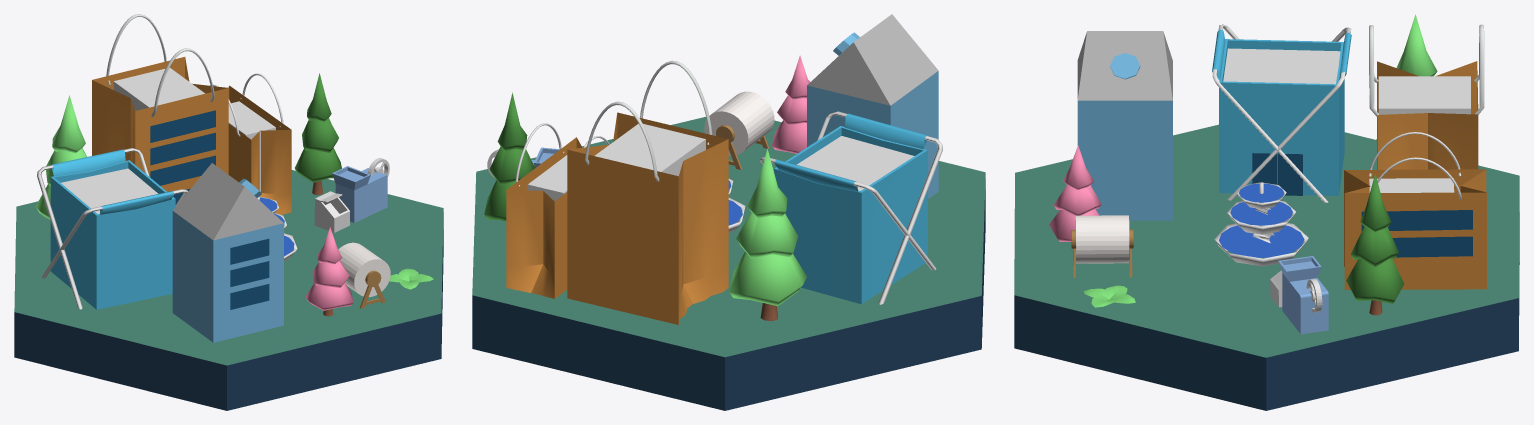
The model's file is Macro - Shop lvl 3 WM3.fbx.
3 views of the same model, side by side, from view 1: azimuth 30°, elevation 25°; view 2: azimuth 150°, elevation 25°; view 3: azimuth 270°, elevation 25° (orthographic). The views are drawn at different scales.
Parts seen in each view (by area): view 1: Cylinder.179, bathroom_item_001.001, milkbox1.012, Circle.006, Circle.005, Tree_Spruce_tiny_01.007, Tree_Spruce_tiny_01.001, Plane.122, Cube.006, Cube.138, Tree_Spruce_tiny_01.005, Cylinder.001 (+10 smaller); view 2: Cylinder.179, Circle.006, bathroom_item_001.001, milkbox1.012, Circle.005, Tree_Spruce_tiny_01.005, Cube.138, Plane.122, Tree_Spruce_tiny_01.007, Cylinder.001, Tree_Spruce_tiny_01.001, Cube.139 (+1 smaller); view 3: Cylinder.179, milkbox1.012, bathroom_item_001.001, Circle.005, Circle.006, Cube.018, Tree_Spruce_tiny_01.007, Plane.122, Cube.138, Cube.006, Cylinder.001, Tree_Spruce_tiny_01.001 (+7 smaller).
Boxes of the visible parts, bbox=[...] form: Cylinder.179: bbox=[14, 170, 443, 410]; bathroom_item_001.001: bbox=[37, 148, 188, 309]; milkbox1.012: bbox=[172, 163, 283, 342]; Circle.006: bbox=[92, 14, 228, 191]; Circle.005: bbox=[210, 73, 291, 214]; Tree_Spruce_tiny_01.007: bbox=[295, 73, 341, 195]; Tree_Spruce_tiny_01.001: bbox=[305, 227, 353, 316]; Plane.122: bbox=[61, 168, 158, 213]; Cube.006: bbox=[332, 166, 387, 222]; Cube.138: bbox=[113, 67, 204, 110]; Tree_Spruce_tiny_01.005: bbox=[36, 95, 86, 219]; Cylinder.001: bbox=[338, 242, 390, 297]; Cylinder.179: bbox=[472, 116, 985, 410]; Circle.006: bbox=[567, 60, 728, 324]; bathroom_item_001.001: bbox=[759, 111, 942, 304]; milkbox1.012: bbox=[807, 14, 938, 198]; Circle.005: bbox=[506, 123, 609, 298]; Tree_Spruce_tiny_01.005: bbox=[729, 148, 806, 321]; Cube.138: bbox=[595, 124, 705, 176]; Plane.122: bbox=[796, 136, 914, 190]; Tree_Spruce_tiny_01.007: bbox=[484, 92, 534, 221]; Cylinder.001: bbox=[704, 91, 774, 156]; Tree_Spruce_tiny_01.001: bbox=[772, 55, 810, 153]; Cube.139: bbox=[527, 155, 567, 201]; Cylinder.179: bbox=[1014, 124, 1519, 410]; milkbox1.012: bbox=[1077, 31, 1172, 220]; bathroom_item_001.001: bbox=[1212, 24, 1351, 202]; Circle.005: bbox=[1344, 132, 1486, 289]; Circle.006: bbox=[1369, 24, 1484, 169]; Cube.018: bbox=[1214, 182, 1308, 266]; Tree_Spruce_tiny_01.007: bbox=[1346, 173, 1404, 315]; Plane.122: bbox=[1223, 48, 1340, 84]; Cube.138: bbox=[1378, 76, 1470, 114]; Cube.006: bbox=[1278, 256, 1328, 334]; Cylinder.001: bbox=[1075, 215, 1129, 263]; Tree_Spruce_tiny_01.001: bbox=[1049, 145, 1101, 241].
Size of the model in its own units: 197 by 98.68 by 172.
